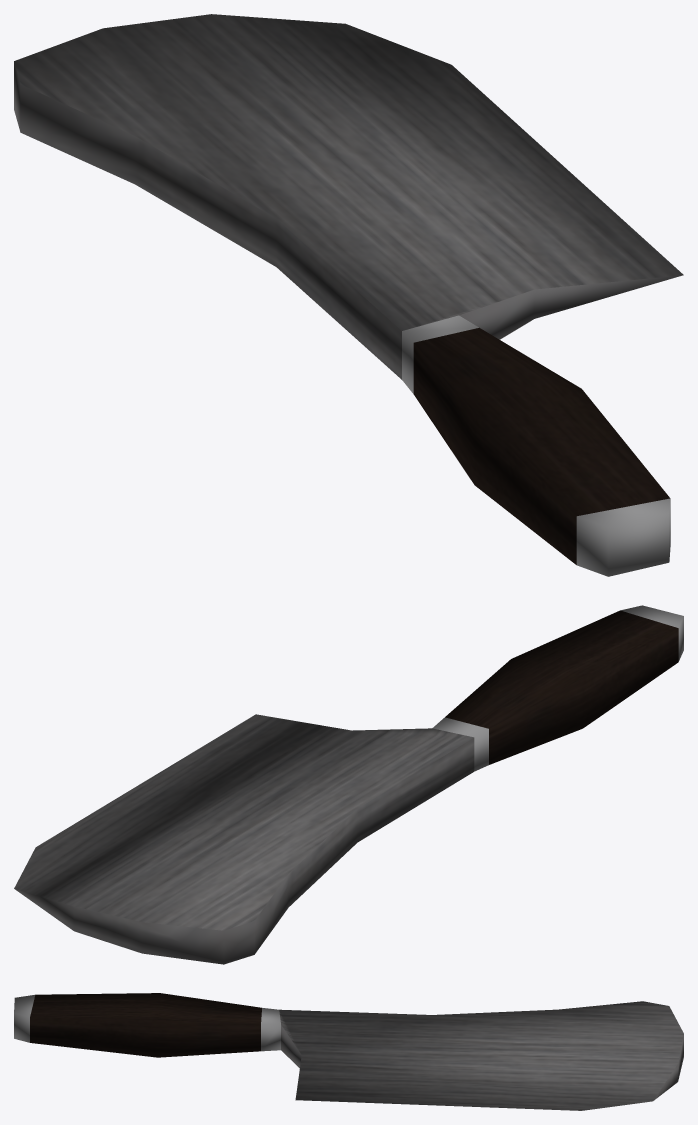
File: Knife_Cleaver.fbx
The picture shows the model from 3 angles, top to bottom: view 1: azimuth 30°, elevation 25°; view 2: azimuth 150°, elevation 25°; view 3: azimuth 270°, elevation 25°; orthographic projection. The views are drawn at different scales.
Parts seen in each view (by area): view 1: Plane.002; view 2: Plane.002; view 3: Plane.002.
Part boxes in pixels (bbox=[...]): Plane.002: bbox=[14, 14, 683, 576]; Plane.002: bbox=[14, 605, 683, 964]; Plane.002: bbox=[14, 993, 683, 1110].
Size of the model in its own units: 33.41 by 5.81 by 93.27.
